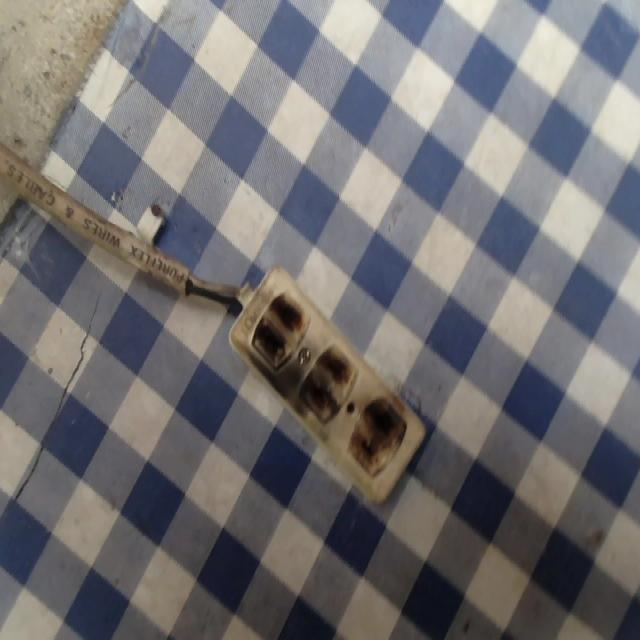-: (294, 341, 358, 427), (347, 395, 409, 480), (247, 290, 310, 366)
